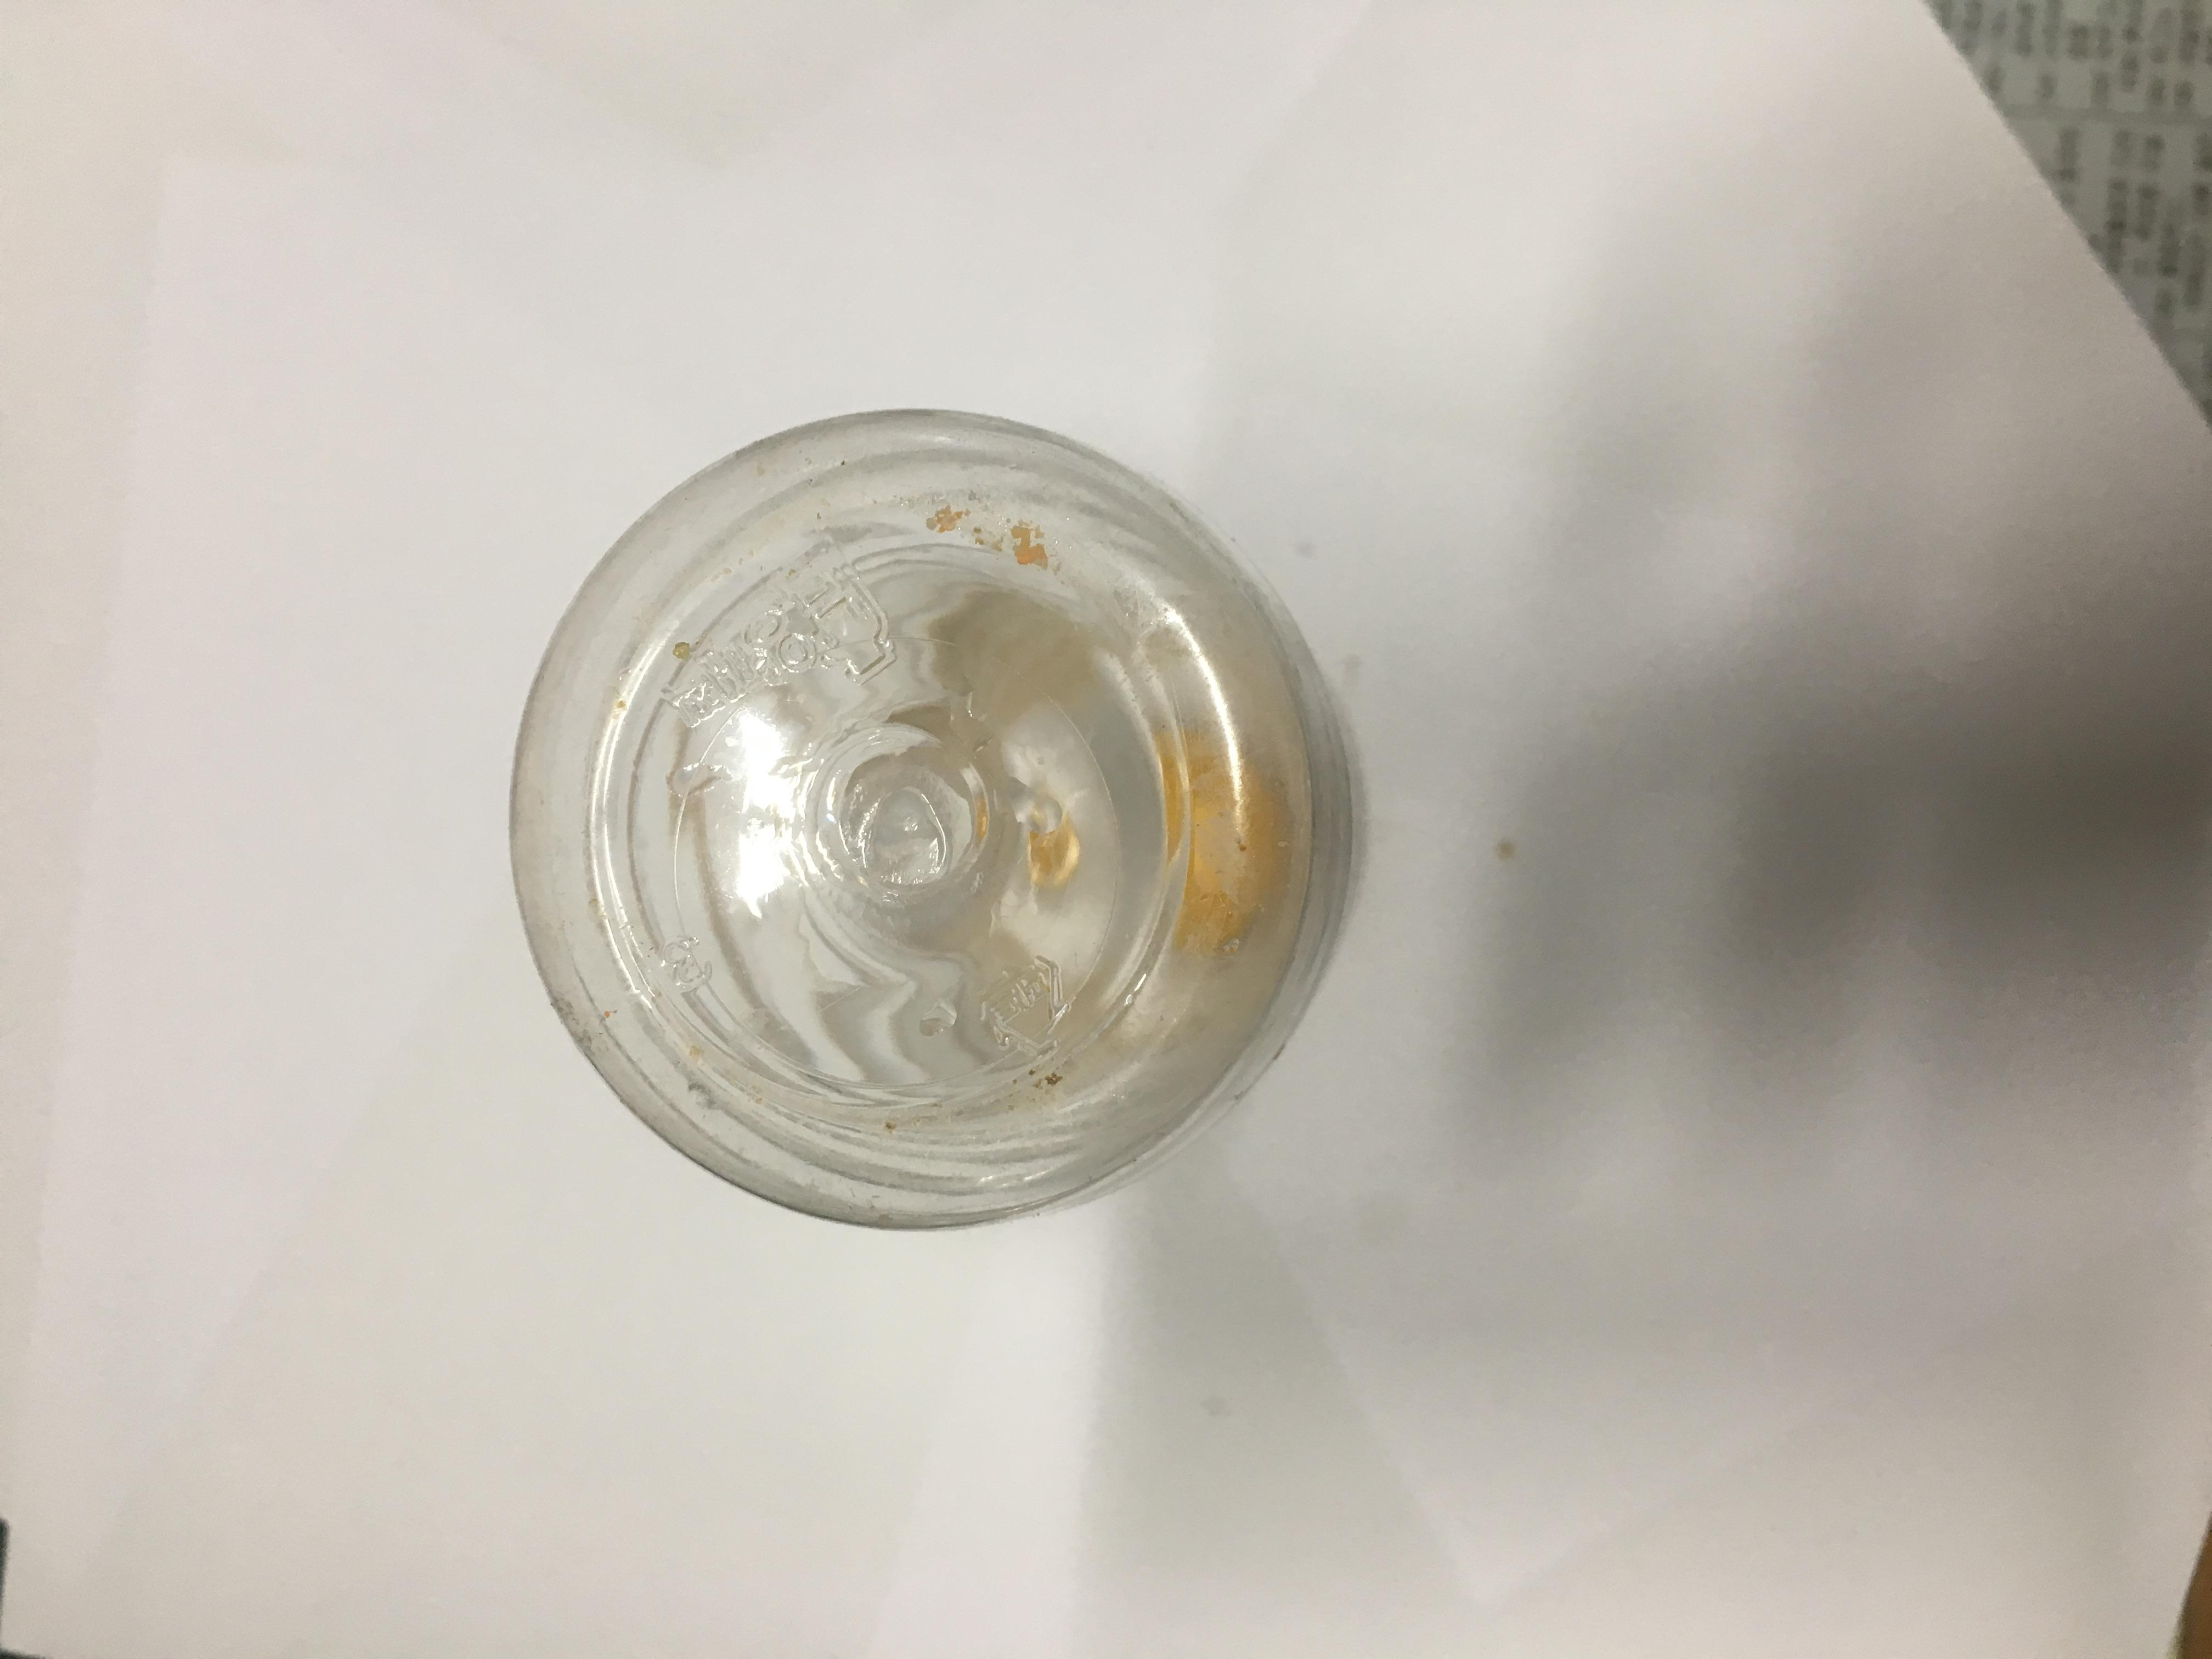bottle: (493, 317, 1717, 1014)
